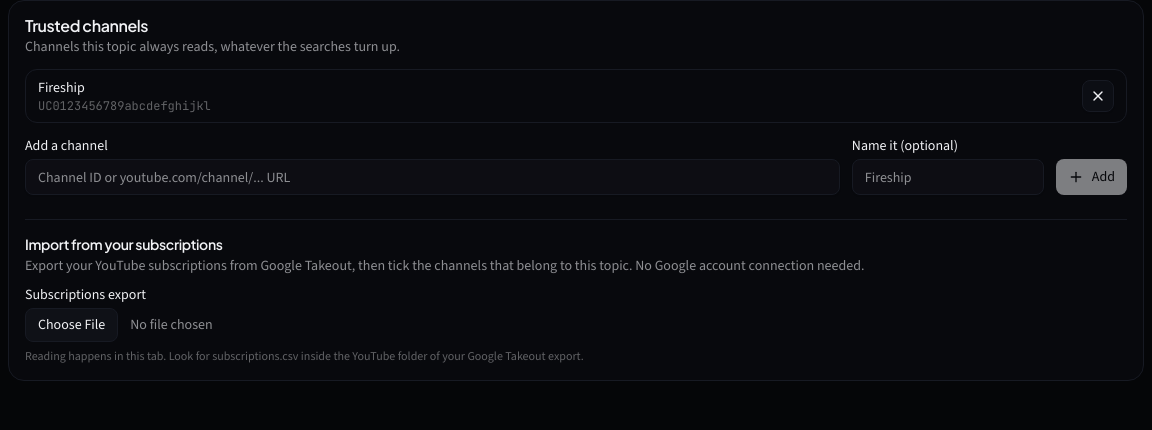
Test: TopicChannelsCard when the request itself fails › frees the Remove control and says so rather than spinning forever
Click the button named "Remove Fireship": click(1098, 96) [1082,80,1114,112]
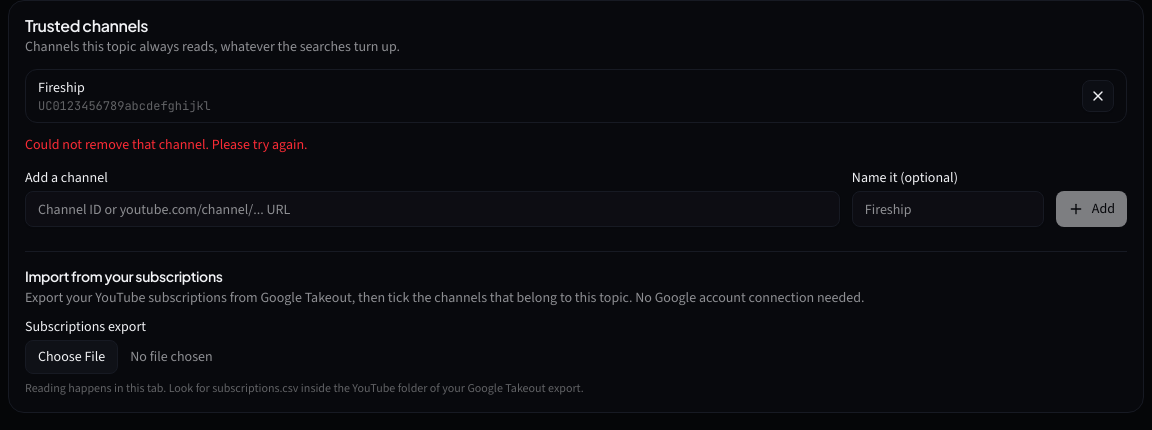
Expected: the message shows "Could not remove that channel", [25,135,308,154]
